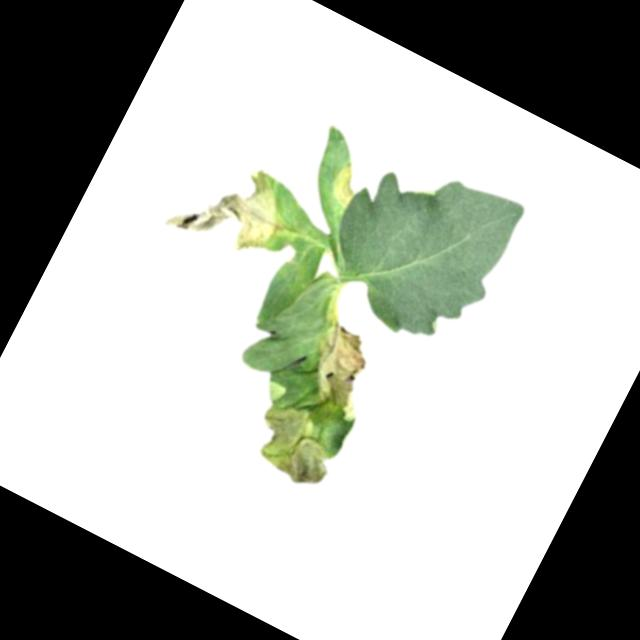Late_blight: (159, 139, 305, 278), (233, 380, 354, 495), (287, 318, 393, 429), (325, 156, 369, 207)
